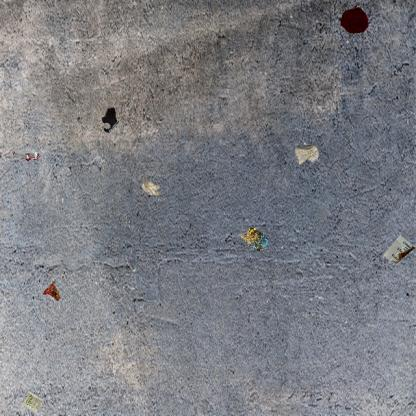dirty: (381, 233, 415, 267), (238, 225, 270, 254), (20, 390, 46, 416), (294, 140, 319, 166), (40, 280, 62, 303), (10, 149, 42, 164), (140, 179, 162, 196)
liquid: (339, 6, 369, 34), (100, 106, 119, 134)
